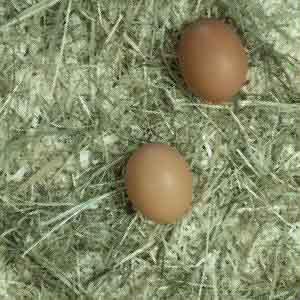egg: (178, 19, 249, 103), (126, 143, 193, 226)
